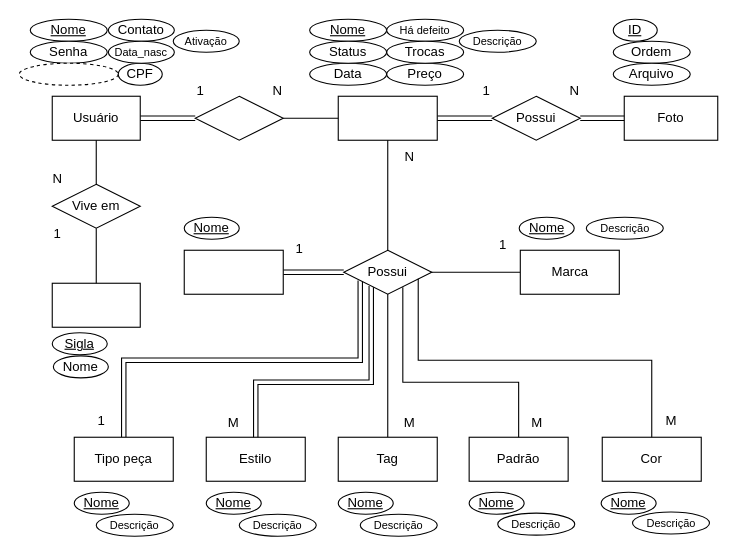
Some shapes in this 737 by 556 pixel diagram are drawn without their labels. Each missing label, with the centre of its shape:
"Anúncio" goes at point 387,117.
"Cria" goes at point 238,117.
"Estado" goes at point 95,304.
"Reputação" goes at point 68,73.
"Tamanho" goes at point 233,271.
